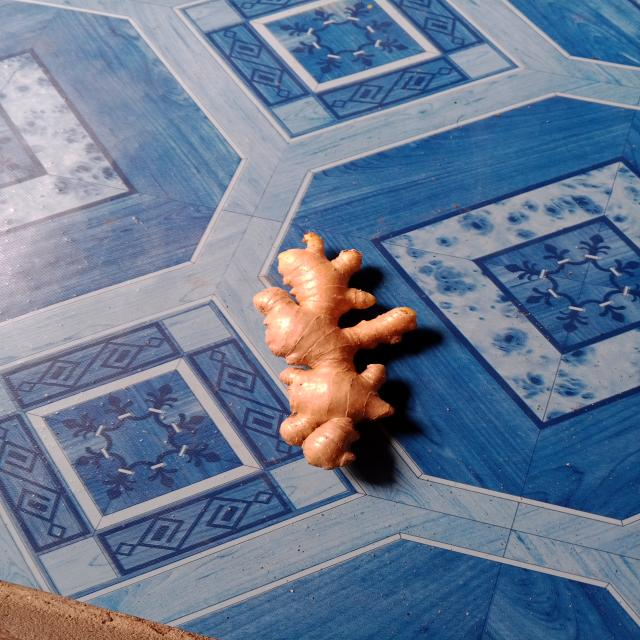ginger: (258, 226, 407, 474)
